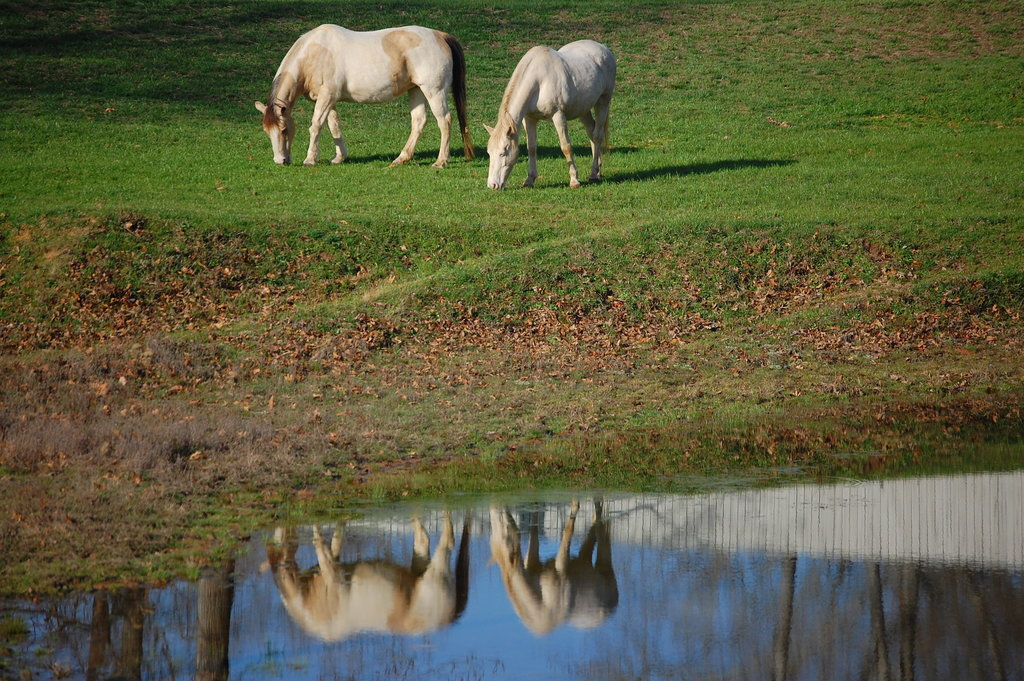horse: (258, 24, 469, 163), (477, 42, 615, 193)
